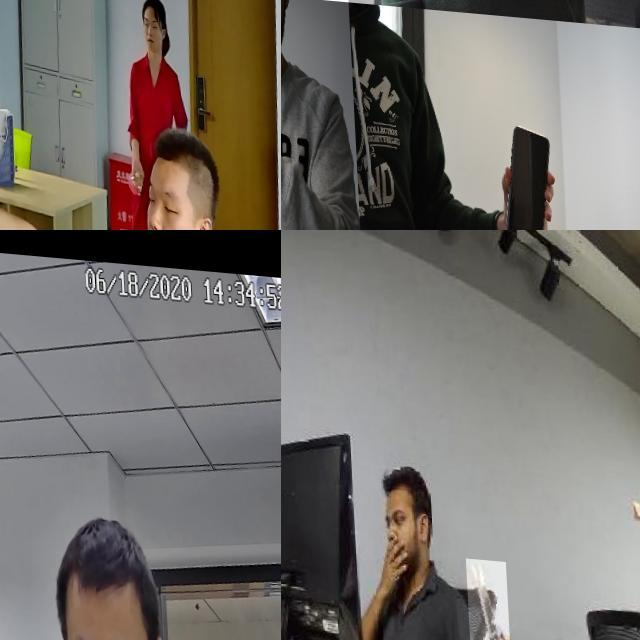-: (461, 553, 505, 640)
gun-knife-thesis - v11 Yolov5 augmented: (0, 35, 30, 181), (0, 540, 39, 640)
